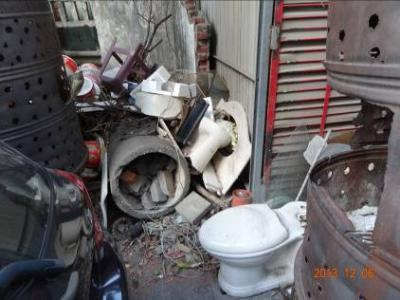toilet: (198, 197, 316, 297), (185, 114, 233, 174)
